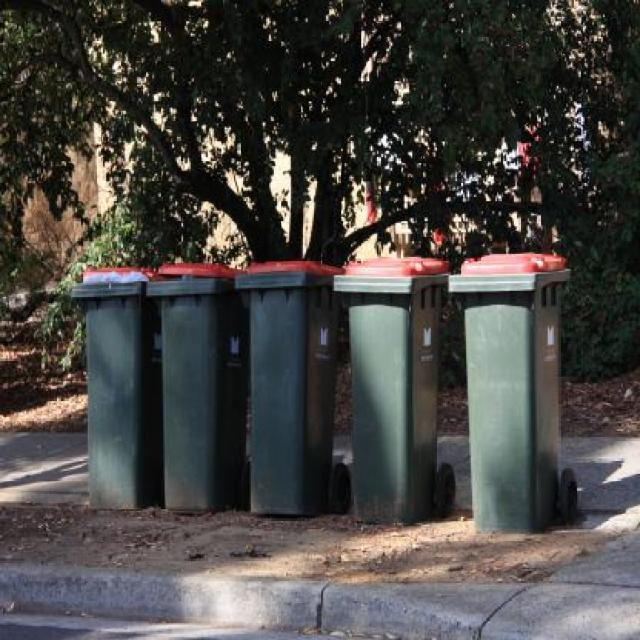garbage container: (447, 249, 589, 546), (331, 234, 459, 547), (235, 250, 355, 533), (148, 250, 250, 523), (67, 258, 161, 519)
